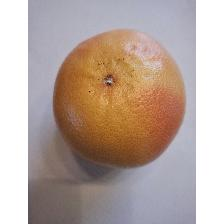Pampelmuse: (47, 25, 189, 170)
